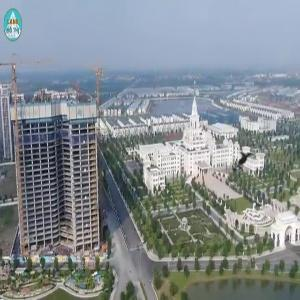drone: (188, 113, 291, 216)
